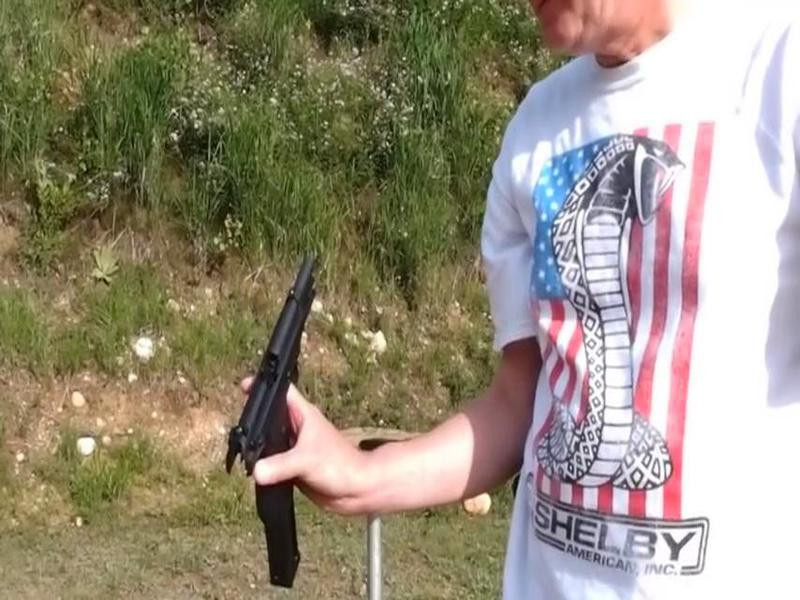Pistola: (200, 254, 361, 580)
